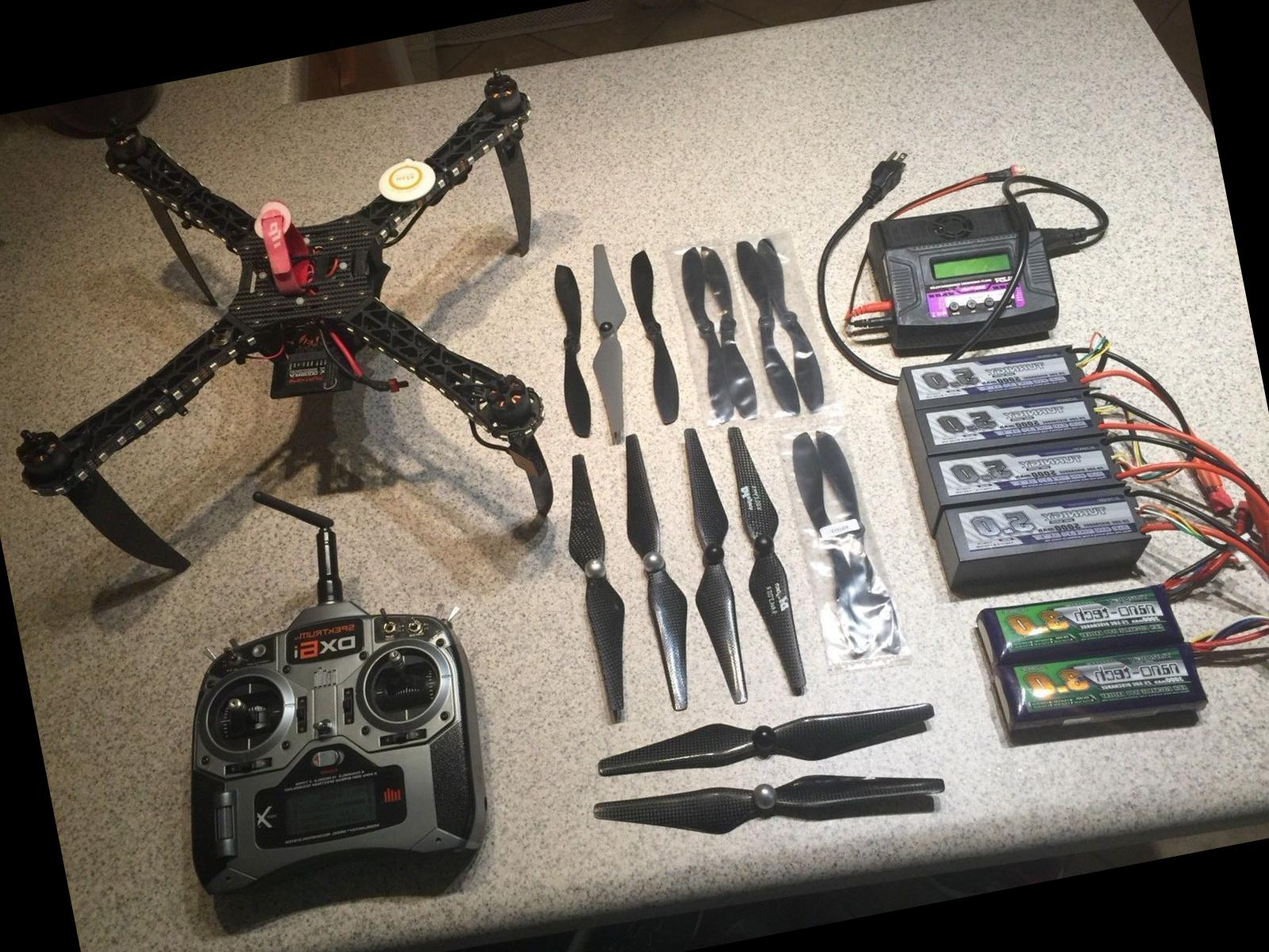drone: (0, 38, 636, 646)
